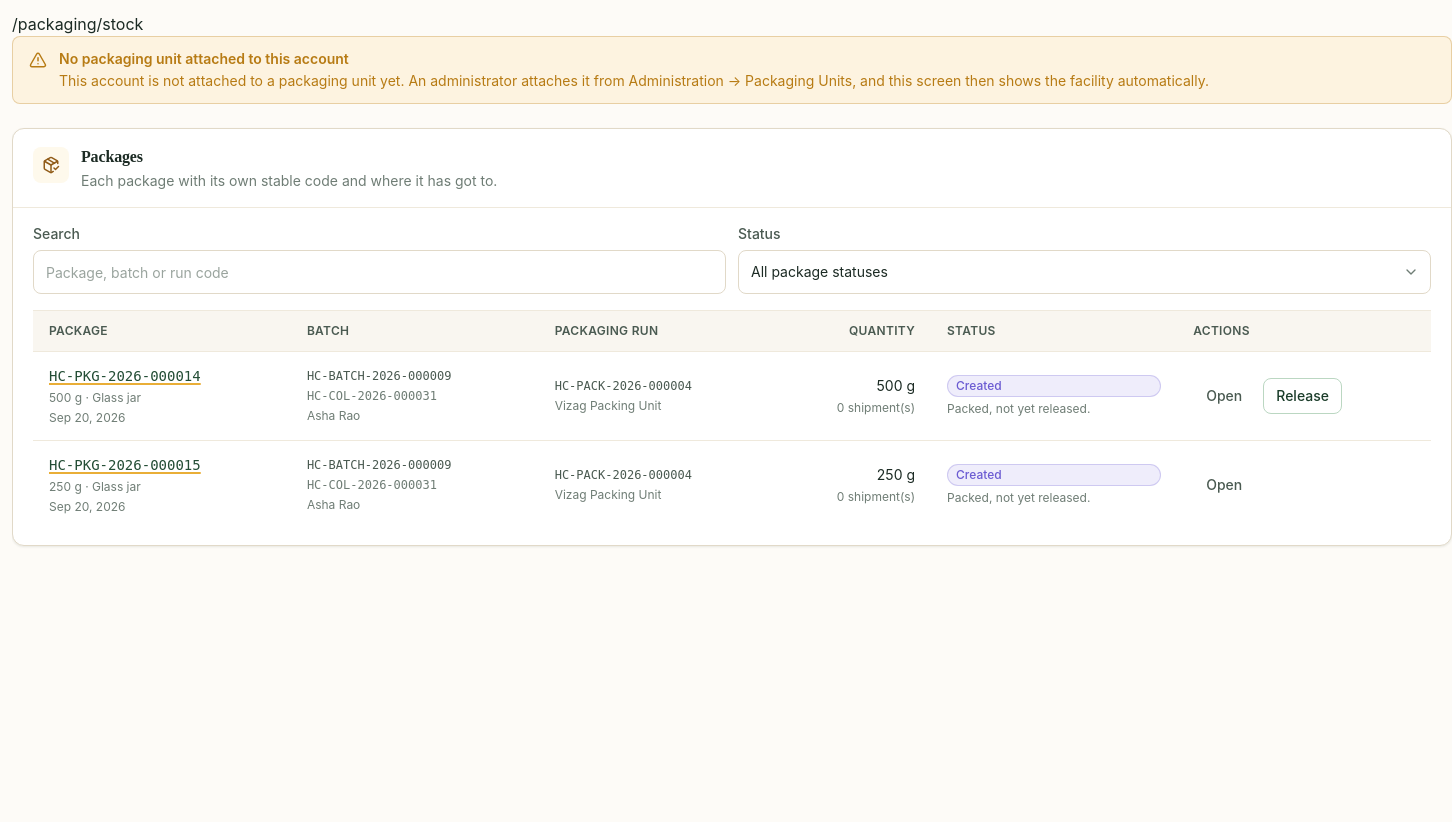
Test: Packed stock → package information › opens the real package when the Open button is clicked
Check: the button "HC-PKG-2026-000015" is shown, box [49,455,275,475]
Second row, so a wrong (first-row / hardcoded) id would be caught.
Click the 2nd button "Open" at (1224, 485), box [1193,467,1255,503]
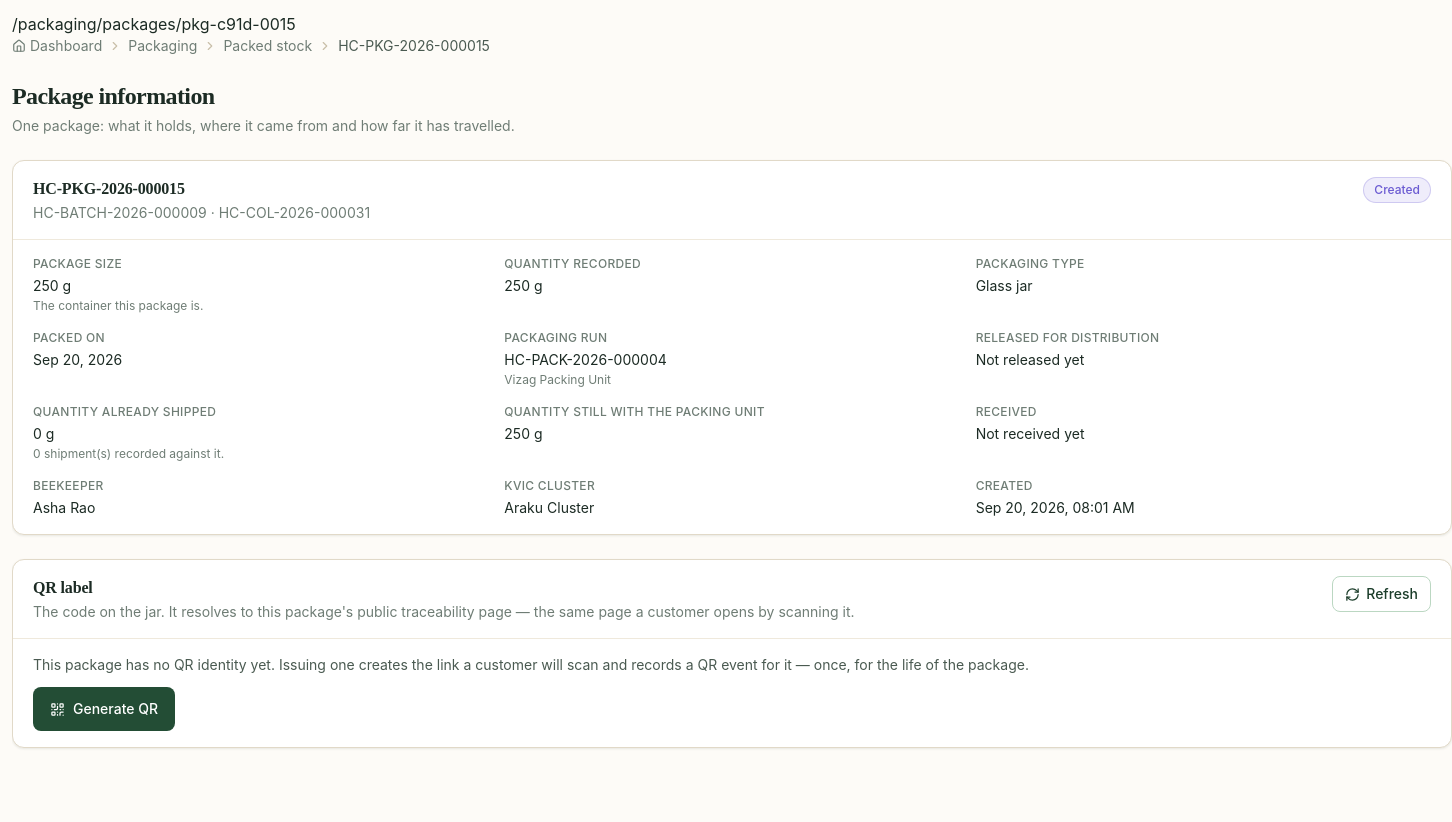
Check: the text with test id "location" reads "/packaging/packages/pkg-c91d-0015", box [12,14,296,34]
